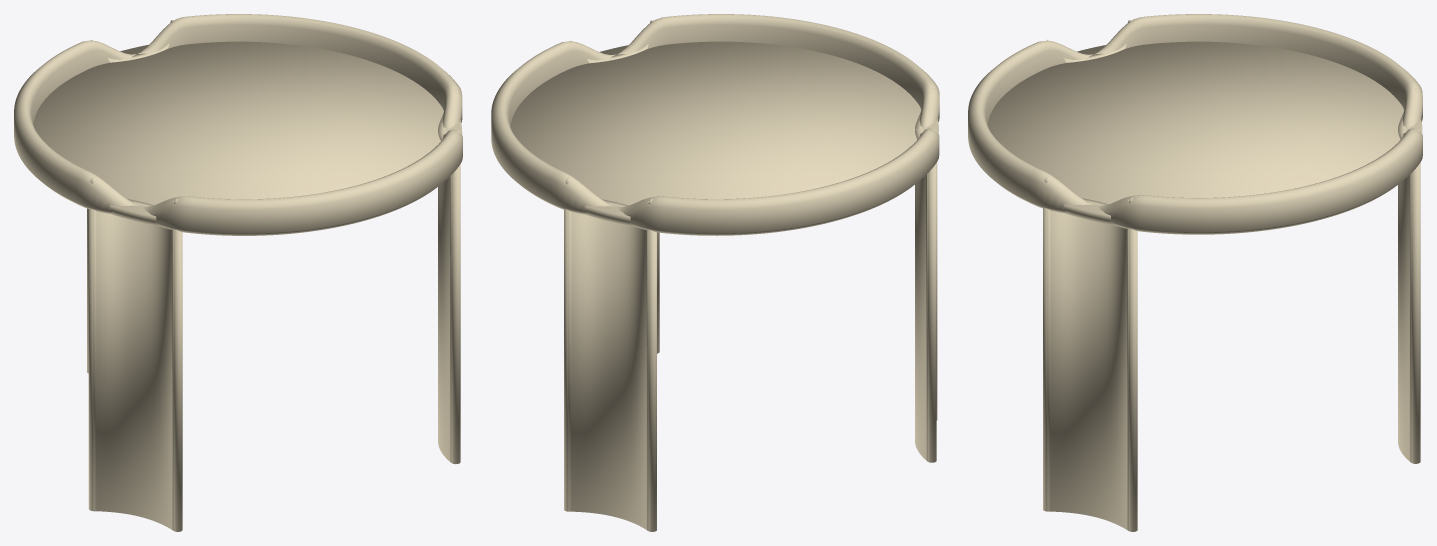
Rendered from stoppino-medium.glb.
3 views of the same model, side by side, from view 1: azimuth 30°, elevation 25°; view 2: azimuth 150°, elevation 25°; view 3: azimuth 270°, elevation 25° (orthographic).
Parts seen in each view (by area): view 1: stoppino-medium; view 2: stoppino-medium; view 3: stoppino-medium.
Part boxes in pixels (bbox=[...]): stoppino-medium: bbox=[14, 14, 462, 531]; stoppino-medium: bbox=[491, 14, 939, 531]; stoppino-medium: bbox=[968, 14, 1422, 531].
Size of the model in its own units: 0.47 by 0.3822 by 0.47.
